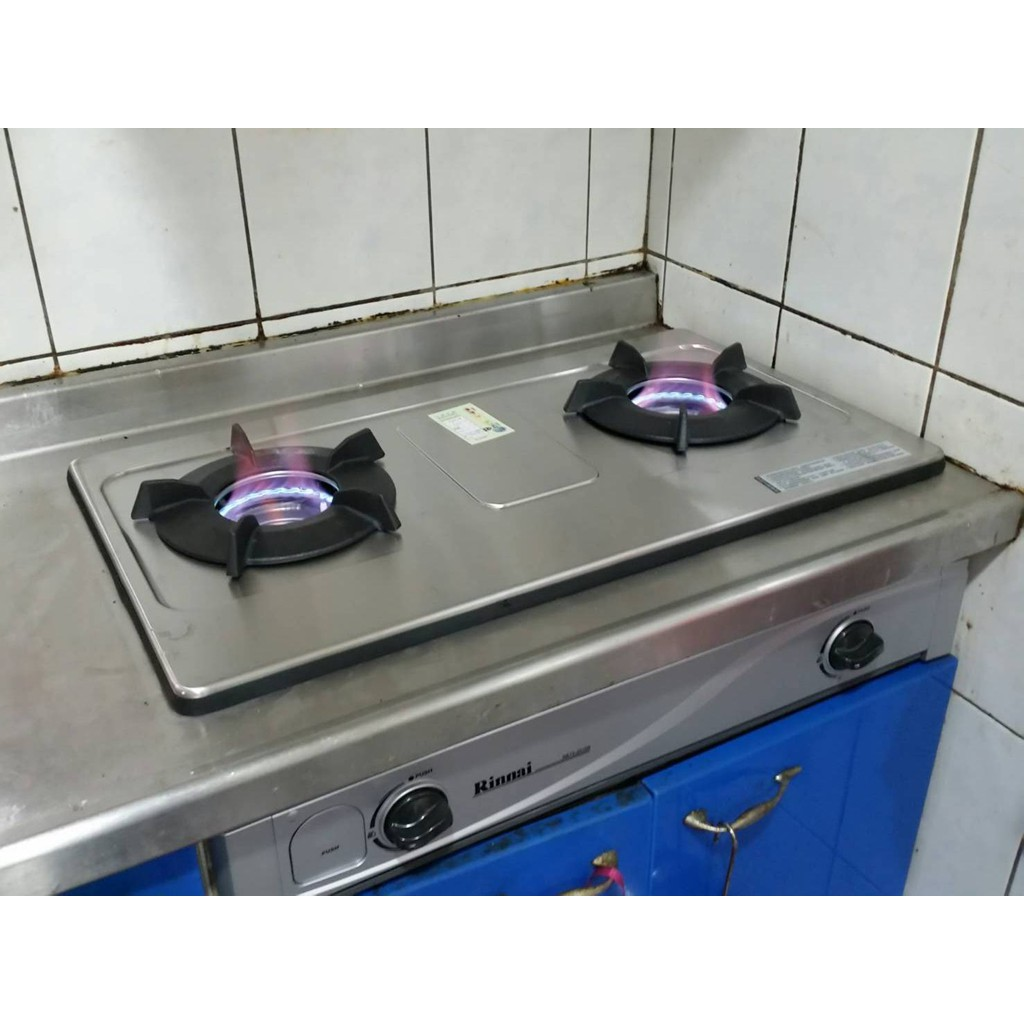gasoven: (67, 324, 960, 896)
